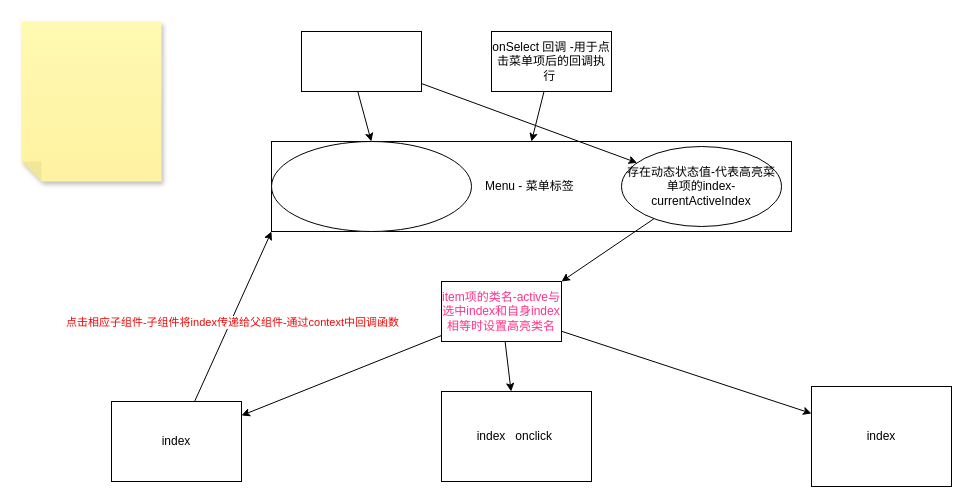
This 969x504 diagram has some shape labels left out. Here are the shapes that lost their labels. From the top down, the centre of each, then its label:
At point (361, 61): "传入 - props - activeKey- 默认高亮项".
At point (92, 102): "此图代表- 菜单项根据点击状态实现高亮类名绑定 同时执行ionSelect 传递高亮index".
At point (371, 186): "父组件通过回调函数接受index，设置currentASctive为相应index，同时将index传递给onSelect函数".
